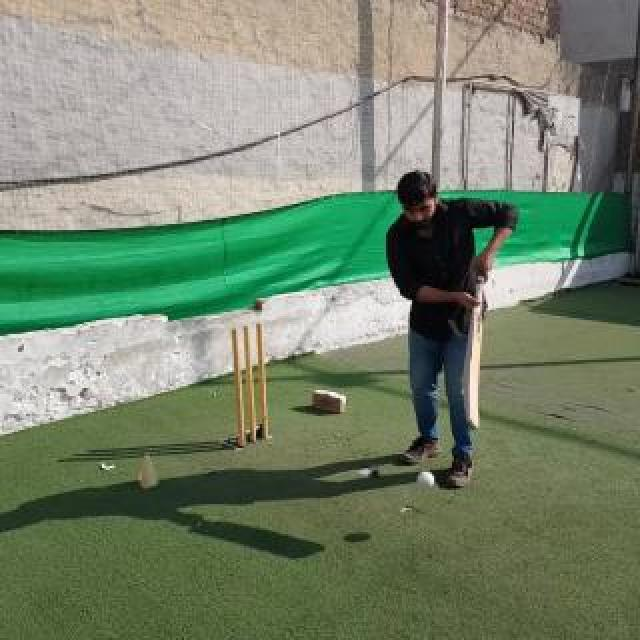ball: (418, 470, 434, 490)
bat: (465, 264, 485, 428)
